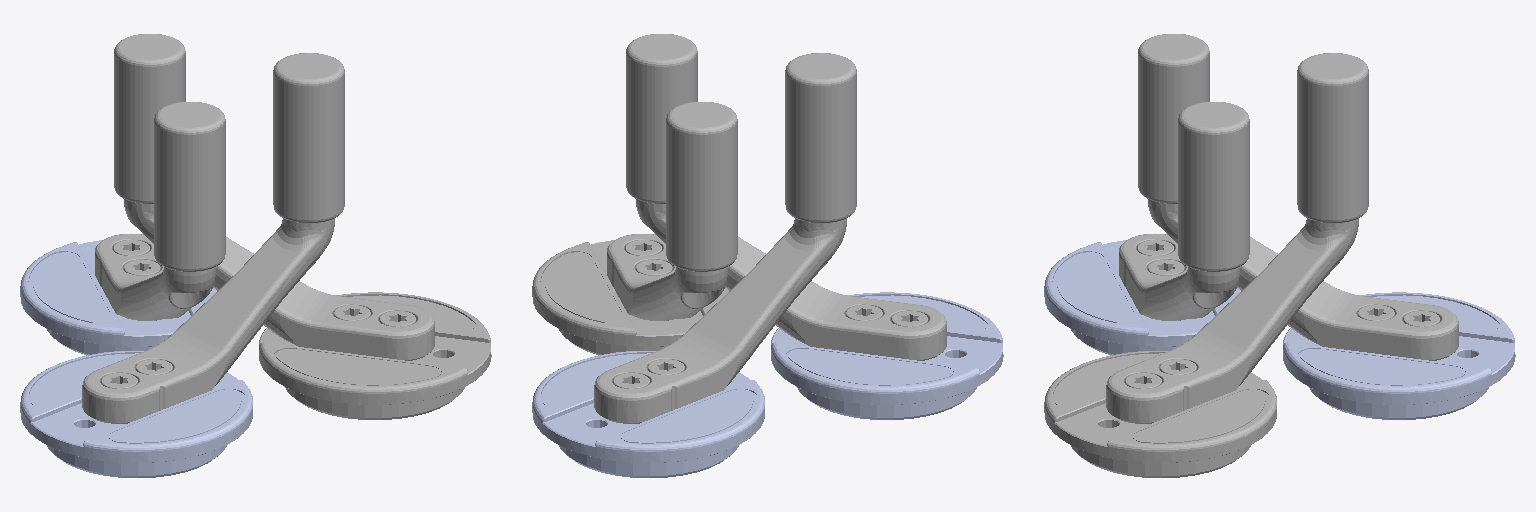
URDF robot description (onrobot_3fg15):
<?xml version="1.0" encoding="utf-8"?>
<!-- This URDF was automatically created by SolidWorks to URDF Exporter! Originally created by Stephen Brawner (brawner@gmail.com) 
     Commit Version: 1.6.0-4-g7f85cfe  Build Version: 1.6.7995.38578
     For more information, please see http://wiki.ros.org/sw_urdf_exporter -->
<robot
  name="onrobot_3fg15">
  <link
    name="base_link">
    <inertial>
      <origin
        xyz="-0.00035875 -0.0001775 0.07158"
        rpy="0 0 0" />
      <mass
        value="0.68599" />
      <inertia
        ixx="0.00073145"
        ixy="-2.0611E-08"
        ixz="3.58E-07"
        iyy="0.000737"
        iyz="-2.2044E-07"
        izz="0.00076009" />
    </inertial>
    <visual>
      <origin
        xyz="0 0 0"
        rpy="0 0 0" />
      <geometry>
        <mesh
          filename="package://onrobot_3fg15/meshes/base_link.STL" />
      </geometry>
      <material
        name="">
        <color
          rgba="0.75294 0.75294 0.75294 1" />
      </material>
    </visual>
    <collision>
      <origin
        xyz="0 0 0"
        rpy="0 0 0" />
      <geometry>
        <mesh
          filename="package://onrobot_3fg15/meshes/base_link.STL" />
      </geometry>
    </collision>
  </link>



  <link
    name="left_finger_base_link">
    <inertial>
      <origin
        xyz="1.9356E-09 -3.2268E-07 0.0036526"
        rpy="0 0 0" />
      <mass
        value="0.073984" />
      <inertia
        ixx="7.7599E-06"
        ixy="1.0265E-11"
        ixz="1.4086E-14"
        iyy="7.4402E-06"
        iyz="-1.0881E-15"
        izz="1.4085E-05" />
    </inertial>
    <visual>
      <origin
        xyz="0 0 0"
        rpy="0 0 0" />
      <geometry>
        <mesh
          filename="package://onrobot_3fg15/meshes/finger_base_link.STL" />
      </geometry>
      <material
        name="">
        <color
          rgba="0.79216 0.81961 0.93333 1" />
      </material>
    </visual>
    <collision>
      <origin
        xyz="0 0 0"
        rpy="0 0 0" />
      <geometry>
        <mesh
          filename="package://onrobot_3fg15/meshes/finger_base_link.STL" />
      </geometry>
    </collision>
  </link>
  <joint
    name="left_finger_base_joint"
    type="revolute">
    <origin
      xyz="-0.025981 -0.015 0.1143"
      rpy="3.1416 0 0.22689" />
    <parent
      link="base_link" />
    <child
      link="left_finger_base_link" />
    <axis
      xyz="0 0 1" />
    <limit
      lower="0"
      upper="2.618"
      effort="1"
      velocity="1" />
  </joint>
  <link
    name="left_finger_tip_link">
    <inertial>
      <origin
        xyz="0.020834 -2.0434E-06 -0.012542"
        rpy="0 0 0" />
      <mass
        value="0.042235" />
      <inertia
        ixx="2.8142E-06"
        ixy="-1.5558E-09"
        ixz="3.409E-06"
        iyy="1.0854E-05"
        iyz="5.0683E-10"
        izz="9.109E-06" />
    </inertial>
    <visual>
      <origin
        xyz="0 0 0"
        rpy="0 0 0" />
      <geometry>
        <mesh
          filename="package://onrobot_3fg15/meshes/Ø13_silicone_fingertip_link.STL" />
      </geometry>
      <material
        name="">
        <color
          rgba="0.75294 0.75294 0.75294 1" />
      </material>
    </visual>
    <collision>
      <origin
        xyz="0 0 0"
        rpy="0 0 0" />
      <geometry>
        <mesh
          filename="package://onrobot_3fg15/meshes/Ø13_silicone_fingertip_link.STL" />
      </geometry>
    </collision>
  </link>
  <joint
    name="left_finger_tip_joint"
    type="fixed">
    <origin
      xyz="0 0 0"
      rpy="0 0 0" />
    <parent
      link="left_finger_base_link" />
    <child
      link="left_finger_tip_link" />
    <axis
      xyz="0 0 0" />
  </joint>
  <link
    name="right_finger_base_link">
    <inertial>
      <origin
        xyz="1.9357E-09 -3.2268E-07 0.0036526"
        rpy="0 0 0" />
      <mass
        value="0.073984" />
      <inertia
        ixx="7.7599E-06"
        ixy="1.0265E-11"
        ixz="1.4087E-14"
        iyy="7.4402E-06"
        iyz="-1.0955E-15"
        izz="1.4085E-05" />
    </inertial>
    <visual>
      <origin
        xyz="0 0 0"
        rpy="0 0 0" />
      <geometry>
        <mesh
          filename="package://onrobot_3fg15/meshes/finger_base_link.STL" />
      </geometry>
      <material
        name="">
        <color
          rgba="0.75294 0.75294 0.75294 1" />
      </material>
    </visual>
    <collision>
      <origin
        xyz="0 0 0"
        rpy="0 0 0" />
      <geometry>
        <mesh
          filename="package://onrobot_3fg15/meshes/finger_base_link.STL" />
      </geometry>
    </collision>
  </link>
  <joint
    name="right_finger_base_joint"
    type="revolute">
    <origin
      xyz="0.025981 -0.015 0.1143"
      rpy="3.1416 0 2.3213" />
    <parent
      link="base_link" />
    <child
      link="right_finger_base_link" />
    <axis
      xyz="0 0 1" />
    <limit
      lower="0"
      upper="0"
      effort="0"
      velocity="0" />
    <mimic
      joint="left_finger_base_joint"
      multiplier="1"
      offset="0" />
  </joint>
  <link
    name="right_finger_tip_link">
    <inertial>
      <origin
        xyz="0.020834 -2.0292E-06 -0.012542"
        rpy="0 0 0" />
      <mass
        value="0.042235" />
      <inertia
        ixx="2.8142E-06"
        ixy="-1.5631E-09"
        ixz="3.409E-06"
        iyy="1.0854E-05"
        iyz="5.0939E-10"
        izz="9.109E-06" />
    </inertial>
    <visual>
      <origin
        xyz="0 0 0"
        rpy="0 0 0" />
      <geometry>
        <mesh
          filename="package://onrobot_3fg15/meshes/Ø13_silicone_fingertip_link.STL" />
      </geometry>
      <material
        name="">
        <color
          rgba="0.75294 0.75294 0.75294 1" />
      </material>
    </visual>
    <collision>
      <origin
        xyz="0 0 0"
        rpy="0 0 0" />
      <geometry>
        <mesh
          filename="package://onrobot_3fg15/meshes/Ø13_silicone_fingertip_link.STL" />
      </geometry>
    </collision>
  </link>
  <joint
    name="right_finger_tip_joint"
    type="fixed">
    <origin
      xyz="0 0 0"
      rpy="0 0 0" />
    <parent
      link="right_finger_base_link" />
    <child
      link="right_finger_tip_link" />
    <axis
      xyz="0 0 0" />
  </joint>
  <link
    name="middle_finger_base_link">
    <inertial>
      <origin
        xyz="1.9363E-09 -3.2268E-07 0.0036526"
        rpy="0 0 0" />
      <mass
        value="0.073984" />
      <inertia
        ixx="7.7599E-06"
        ixy="1.0265E-11"
        ixz="1.409E-14"
        iyy="7.4402E-06"
        iyz="-1.0876E-15"
        izz="1.4085E-05" />
    </inertial>
    <visual>
      <origin
        xyz="0 0 0"
        rpy="0 0 0" />
      <geometry>
        <mesh
          filename="package://onrobot_3fg15/meshes/finger_base_link.STL" />
      </geometry>
      <material
        name="">
        <color
          rgba="0.79216 0.81961 0.93333 1" />
      </material>
    </visual>
    <collision>
      <origin
        xyz="0 0 0"
        rpy="0 0 0" />
      <geometry>
        <mesh
          filename="package://onrobot_3fg15/meshes/finger_base_link.STL" />
      </geometry>
    </collision>
  </link>
  <joint
    name="middle_finger_base_joint"
    type="revolute">
    <origin
      xyz="0 0.03 0.1143"
      rpy="3.1416 0 -1.8675" />
    <parent
      link="base_link" />
    <child
      link="middle_finger_base_link" />
    <axis
      xyz="0 0 1" />
    <limit
      lower="0"
      upper="0"
      effort="0"
      velocity="0" />
    <mimic
      joint="left_finger_base_joint"
      multiplier="1"
      offset="0" />
  </joint>
  <link
    name="middle_finger_tip_link">
    <inertial>
      <origin
        xyz="0.020834 -2.0126E-06 -0.012542"
        rpy="0 0 0" />
      <mass
        value="0.042235" />
      <inertia
        ixx="2.8142E-06"
        ixy="-1.5694E-09"
        ixz="3.409E-06"
        iyy="1.0854E-05"
        iyz="5.1145E-10"
        izz="9.109E-06" />
    </inertial>
    <visual>
      <origin
        xyz="0 0 0"
        rpy="0 0 0" />
      <geometry>
        <mesh
          filename="package://onrobot_3fg15/meshes/Ø13_silicone_fingertip_link.STL" />
      </geometry>
      <material
        name="">
        <color
          rgba="0.75294 0.75294 0.75294 1" />
      </material>
    </visual>
    <collision>
      <origin
        xyz="0 0 0"
        rpy="0 0 0" />
      <geometry>
        <mesh
          filename="package://onrobot_3fg15/meshes/Ø13_silicone_fingertip_link.STL" />
      </geometry>
    </collision>
  </link>
  <joint
    name="middle_finger_tip_joint"
    type="fixed">
    <origin
      xyz="0 0 0"
      rpy="0 0 0" />
    <parent
      link="middle_finger_base_link" />
    <child
      link="middle_finger_tip_link" />
    <axis
      xyz="0 0 0" />
  </joint>
</robot>

--- Facts derived from the render (not from the file) ---
Views: 3 orthographic renders of the robot side by side, from view 1: azimuth 30°, elevation 25°; view 2: azimuth 150°, elevation 25°; view 3: azimuth 270°, elevation 25°.
Model onrobot_3fg15 with 7 links and 6 joints (3 revolute, 3 fixed), rooted at base_link, posed every joint at zero.
Links seen in each view (by area): view 1: left_finger_tip_link, right_finger_tip_link, middle_finger_tip_link, left_finger_base_link, right_finger_base_link, middle_finger_base_link; view 2: middle_finger_tip_link, left_finger_tip_link, right_finger_tip_link, middle_finger_base_link, left_finger_base_link, right_finger_base_link; view 3: right_finger_tip_link, middle_finger_tip_link, left_finger_tip_link, right_finger_base_link, middle_finger_base_link, left_finger_base_link.
Boxes of the visible links, x1,y1,x2,y2 form: left_finger_tip_link: (82, 53, 344, 423); right_finger_tip_link: (114, 34, 434, 360); middle_finger_tip_link: (95, 102, 225, 320); left_finger_base_link: (20, 351, 252, 477); right_finger_base_link: (259, 292, 491, 419); middle_finger_base_link: (20, 240, 216, 355); middle_finger_tip_link: (594, 53, 856, 423); left_finger_tip_link: (626, 34, 946, 360); right_finger_tip_link: (607, 102, 737, 320); middle_finger_base_link: (532, 351, 764, 477); left_finger_base_link: (771, 292, 1003, 419); right_finger_base_link: (532, 240, 728, 355); right_finger_tip_link: (1106, 53, 1368, 423); middle_finger_tip_link: (1138, 34, 1458, 360); left_finger_tip_link: (1119, 102, 1249, 320); right_finger_base_link: (1044, 351, 1276, 477); middle_finger_base_link: (1283, 292, 1515, 419); left_finger_base_link: (1044, 240, 1240, 355).
Bounding box of the posed robot: 0.096 × 0.089 × 0.0655 m (x, y, z).
Meshes: 3 distinct files referenced, 6 mesh visuals loaded (2 binary STL); not drawn: 1 (reference not matched to a file when rendering).
